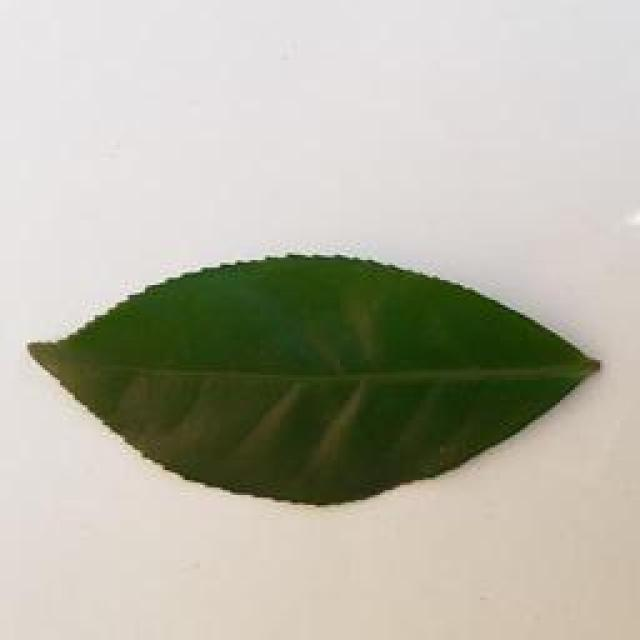Healthy: (10, 243, 625, 513)
